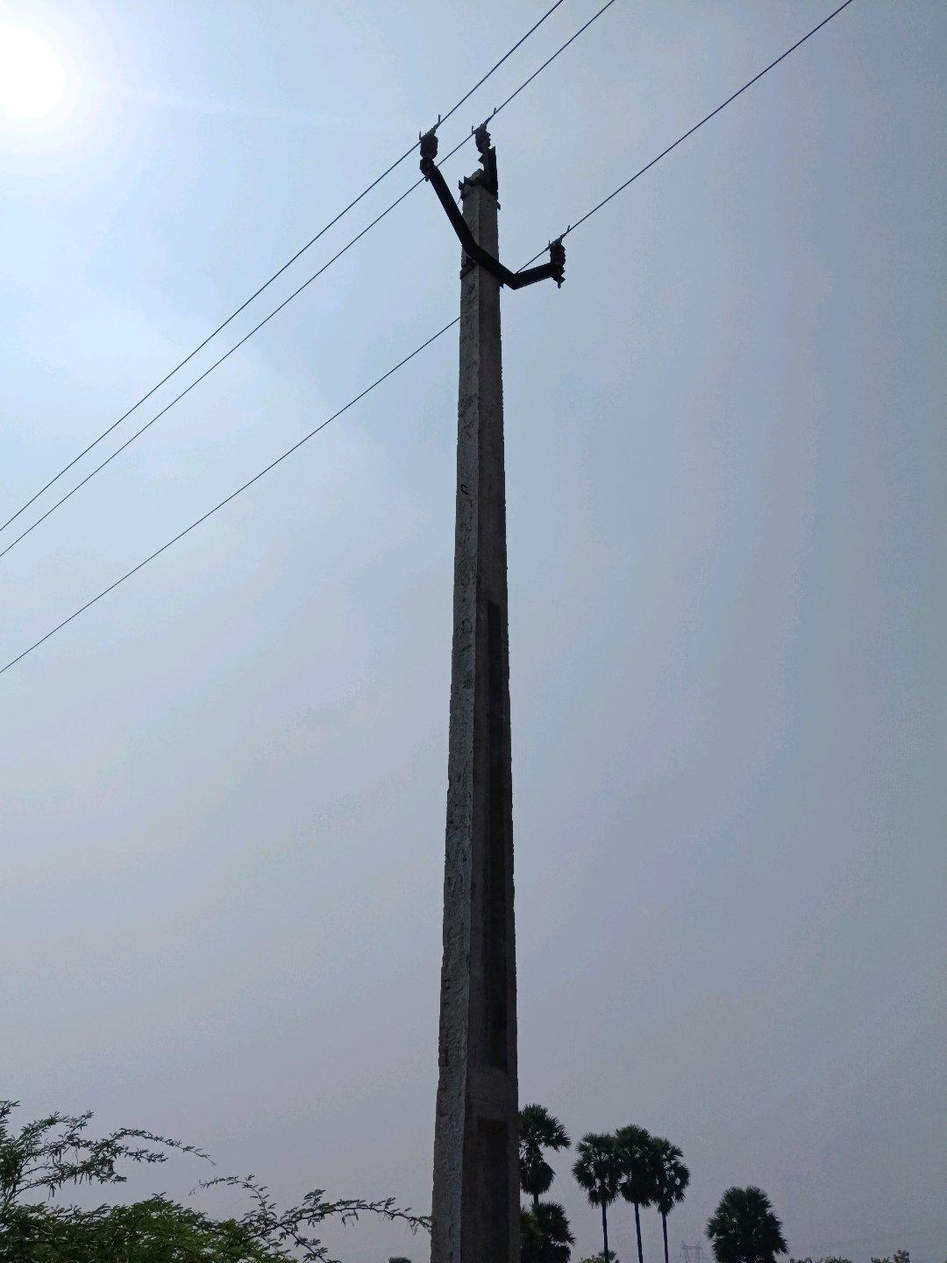{"0" "insulator", "1" "pole", "2" "crossarm", "3" "conductor", "4" "street_: (419, 128, 565, 1262), (716, 105, 724, 113), (644, 164, 650, 171), (630, 178, 636, 182), (659, 158, 661, 161), (670, 145, 673, 146), (623, 185, 623, 189)
